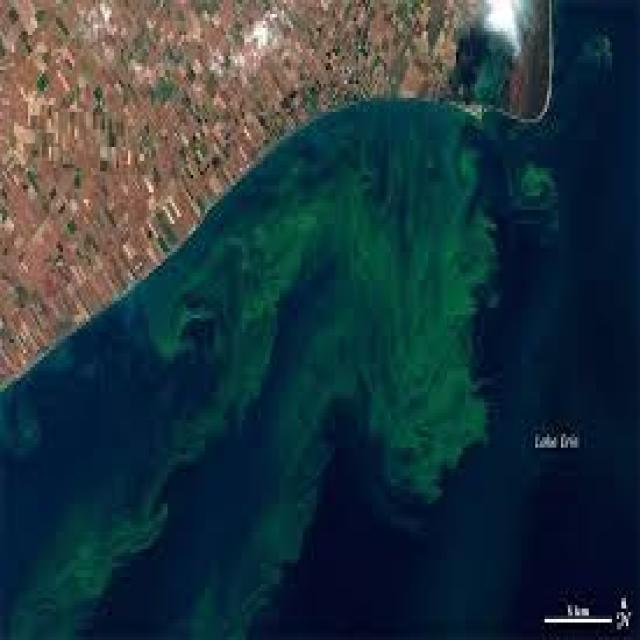algal: (0, 101, 496, 637), (517, 168, 568, 233)
